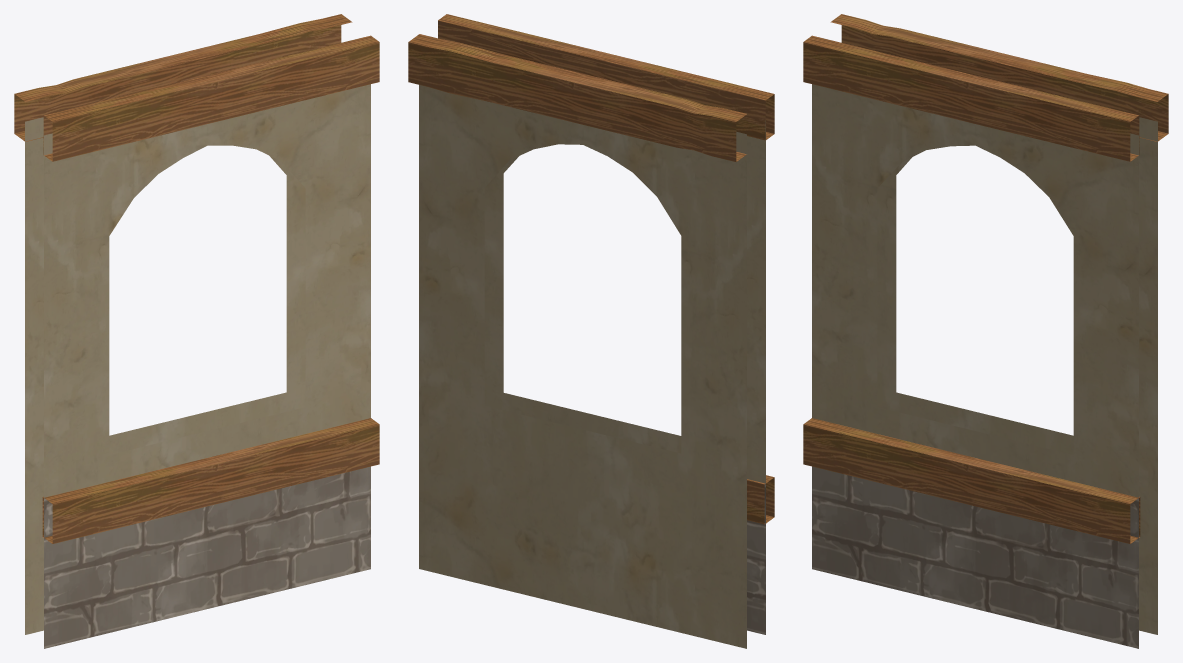
File: Wall_Plaster_Window_Wide_Round.gltf
The picture shows the model from 3 angles, left to right: view 1: azimuth 30°, elevation 25°; view 2: azimuth 150°, elevation 25°; view 3: azimuth 330°, elevation 25°; orthographic projection.
Parts seen in each view (by area): view 1: Wall_Plaster_Window_Wide_Round; view 2: Wall_Plaster_Window_Wide_Round; view 3: Wall_Plaster_Window_Wide_Round.
Part boxes in pixels (<box>): Wall_Plaster_Window_Wide_Round: <box>14,14,379,648</box>; Wall_Plaster_Window_Wide_Round: <box>408,14,774,648</box>; Wall_Plaster_Window_Wide_Round: <box>803,14,1168,648</box>.
Bounding box in the file's own units: 2 × 3.12 × 0.4064.
Materials: 3 (3 with a texture image).
